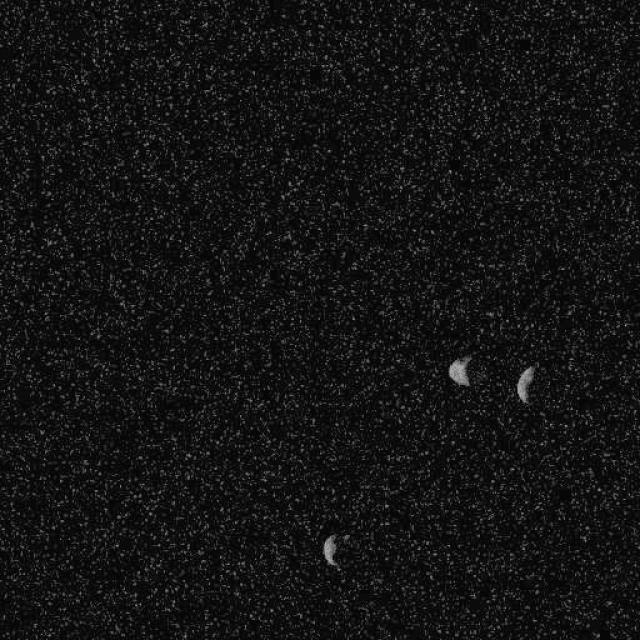D2: (515, 364, 536, 404), (448, 354, 472, 386), (321, 532, 340, 568)
